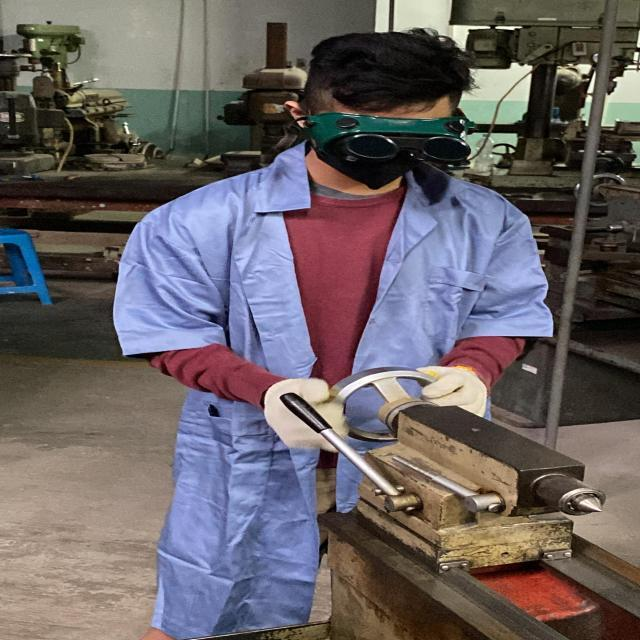glasses: (280, 105, 480, 171)
